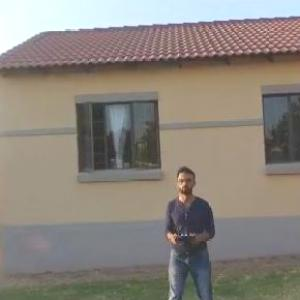follow: (160, 162, 224, 299)
